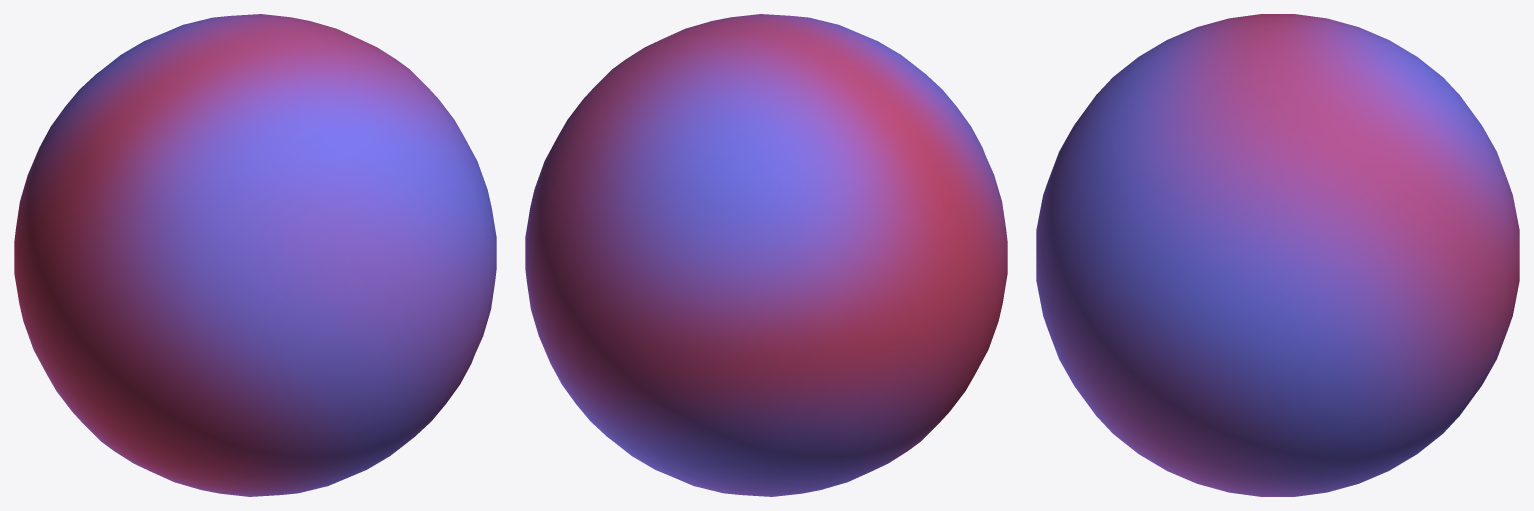
The model's file is Shar.fbx.
3 renders of one model, left to right at view 1: azimuth 30°, elevation 25°; view 2: azimuth 150°, elevation 25°; view 3: azimuth 270°, elevation 25°, orthographic.
Parts seen in each view (by area): view 1: Cube.001; view 2: Cube.001; view 3: Cube.001.
Boxes of the visible parts, <box> form: Cube.001: <box>14,14,496,496</box>; Cube.001: <box>525,14,1007,496</box>; Cube.001: <box>1036,14,1519,496</box>.
Bounding box in the file's own units: 2.7 × 2.7 × 2.7.
Materials: 1 (1 with a texture image).
